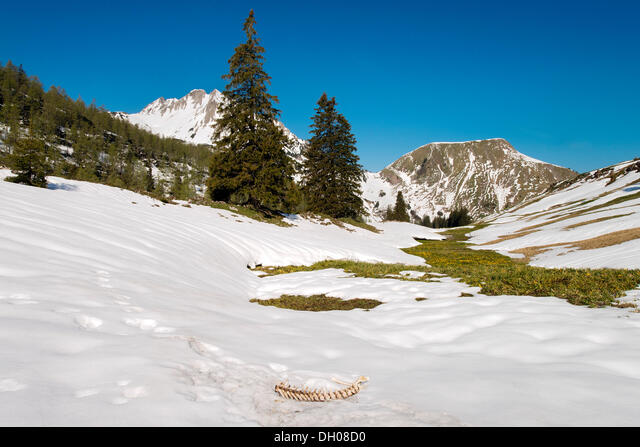fox: (77, 316, 102, 331), (123, 386, 149, 400), (267, 358, 285, 372)
